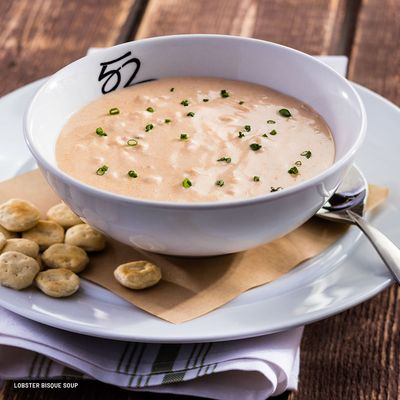salad: (317, 163, 400, 288)
sushi: (5, 35, 379, 349), (43, 56, 384, 259)
